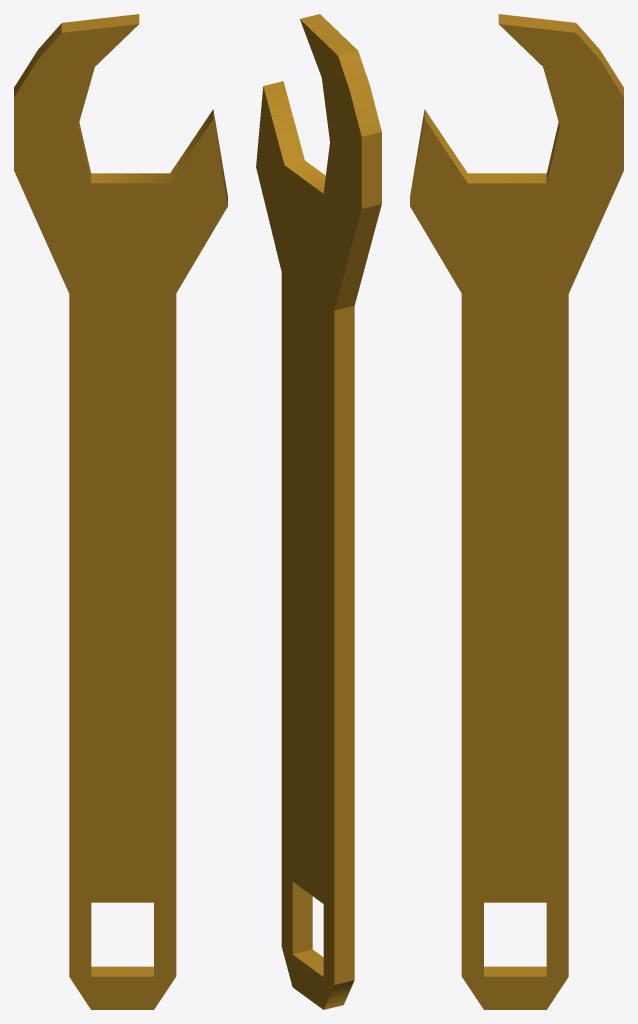
The model's file is Boss_Wrench.fbx.
3 views of the same model, side by side, from view 1: azimuth 90°, elevation 25°; view 2: azimuth 210°, elevation 25°; view 3: azimuth 270°, elevation 25° (orthographic).
Parts seen in each view (by area): view 1: Wrench; view 2: Wrench; view 3: Wrench.
Boxes of the visible parts, x1,y1,x2,y2 form: Wrench: [14, 14, 227, 1009]; Wrench: [256, 14, 381, 1009]; Wrench: [410, 14, 623, 1009].
Bounding box in the file's own units: 0.2216 × 10.17 × 2.
